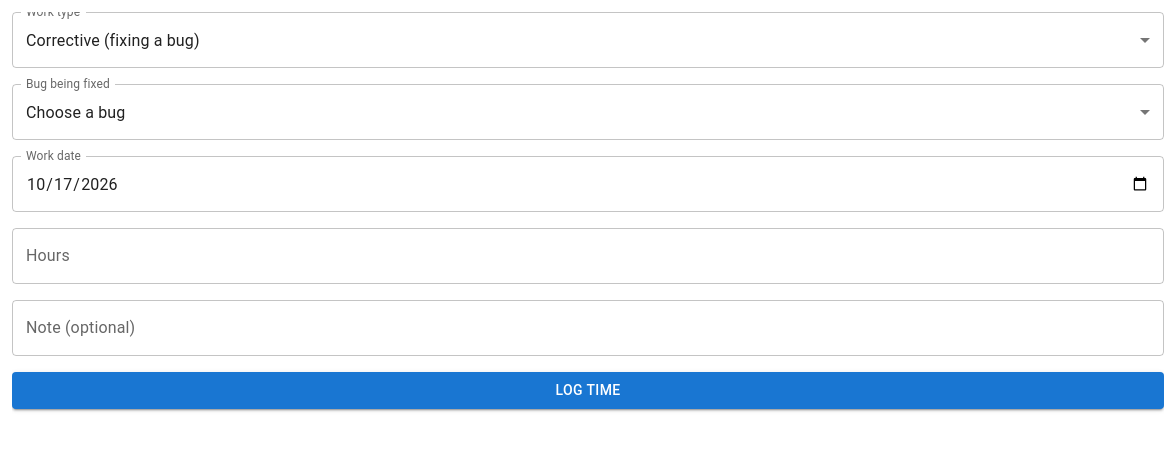
TimeLogForm › rejects hours ""
Select "#7 Declined cards are charged" in the dropdown labelled "Bug being fixed": x=588, y=112 [12,84,1164,140]
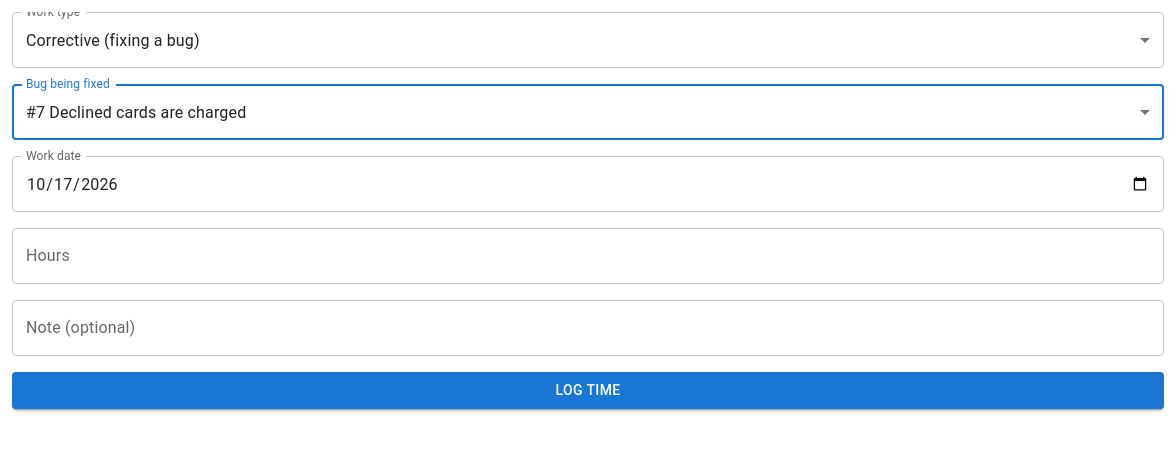
Click the button "Log time": x=588, y=390 [12,372,1164,408]
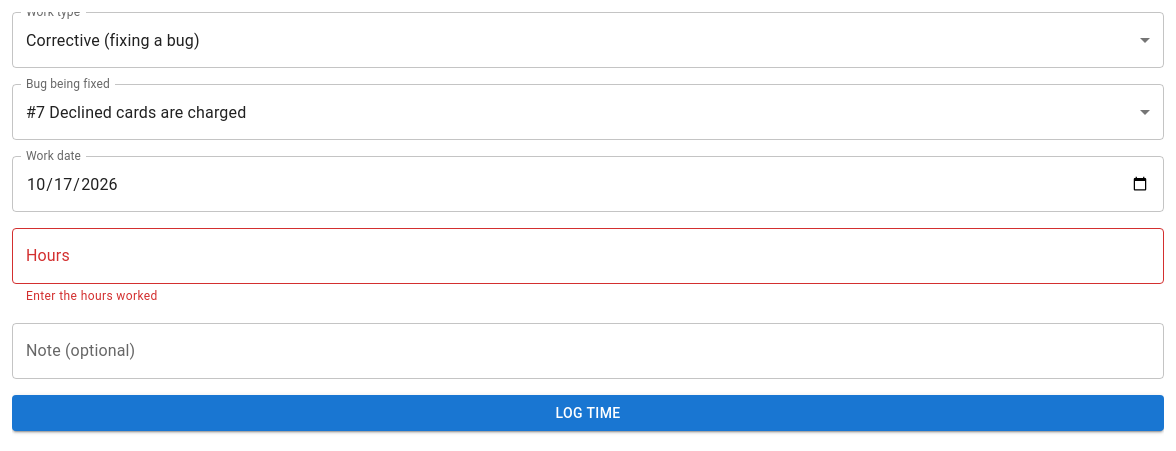
Check: the text "Enter the hours worked" is shown, box [26,289,158,303]
